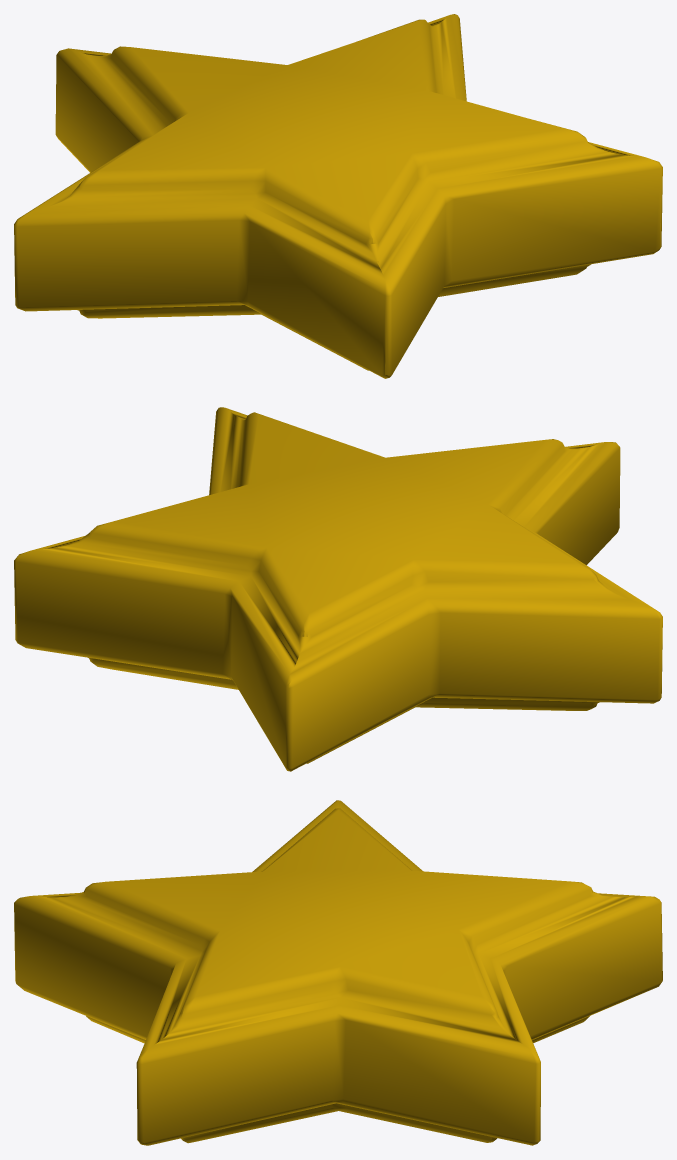
The model's file is Star_Moon.obj.
The picture shows the model from 3 angles, top to bottom: view 1: azimuth 30°, elevation 25°; view 2: azimuth 150°, elevation 25°; view 3: azimuth 270°, elevation 25°; orthographic projection. The views are drawn at different scales.
Parts seen in each view (by area): view 1: Circle; view 2: Circle; view 3: Circle.
Part boxes in pixels (bbox=[...]): Circle: bbox=[14, 14, 662, 378]; Circle: bbox=[14, 407, 662, 771]; Circle: bbox=[14, 800, 662, 1145].
Bounding box in the file's own units: 3.56 × 0.9241 × 3.74.
